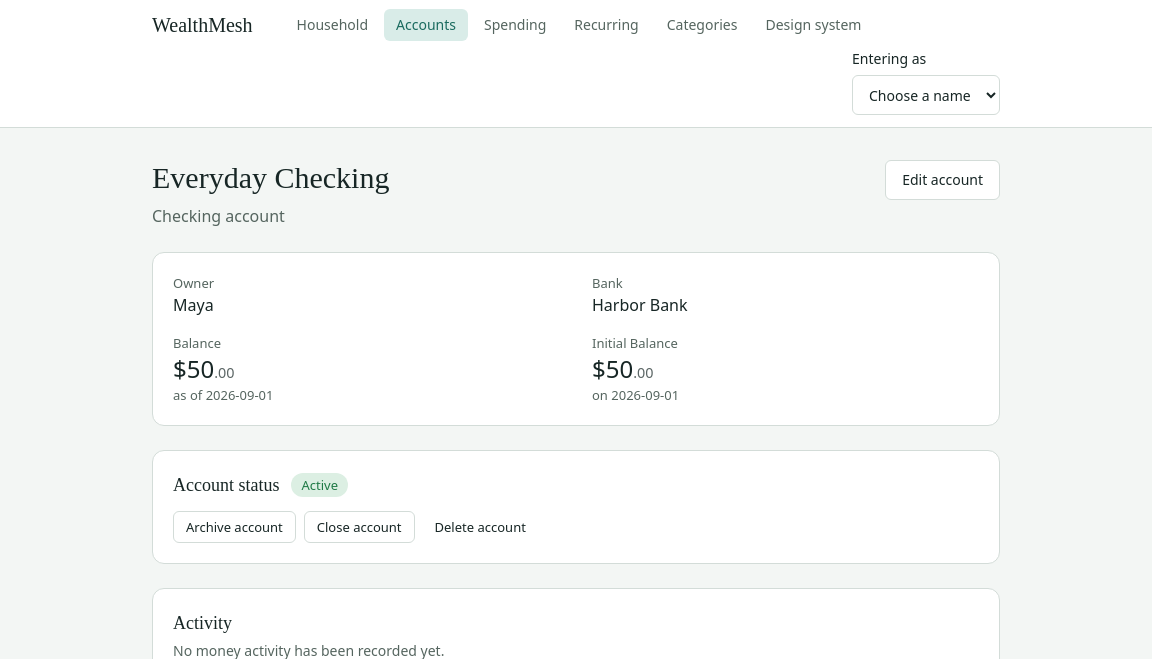
Test: an actual overdraft › does not warn when the Balance stays at or above zero
Select "Sam" in the dropdown labelled "Entering as" at (926, 95), box [852, 75, 1000, 115]
(page scrolled)
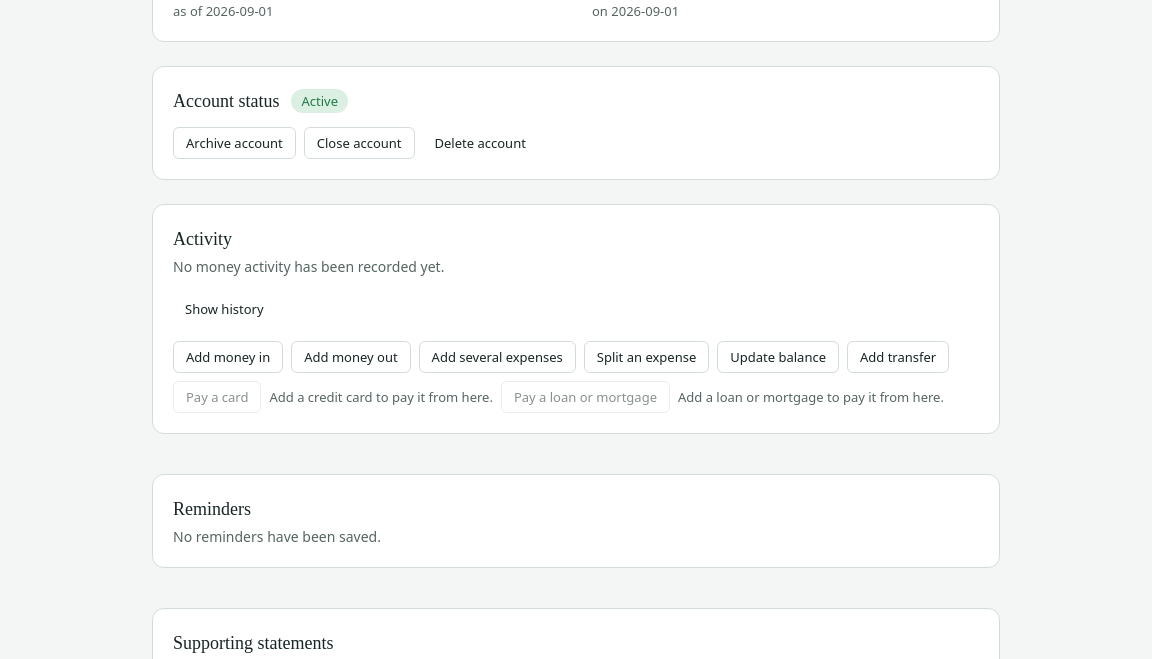
Click the button "Add money out".
click(351, 357)  # box [291, 341, 411, 373]
(page scrolled)
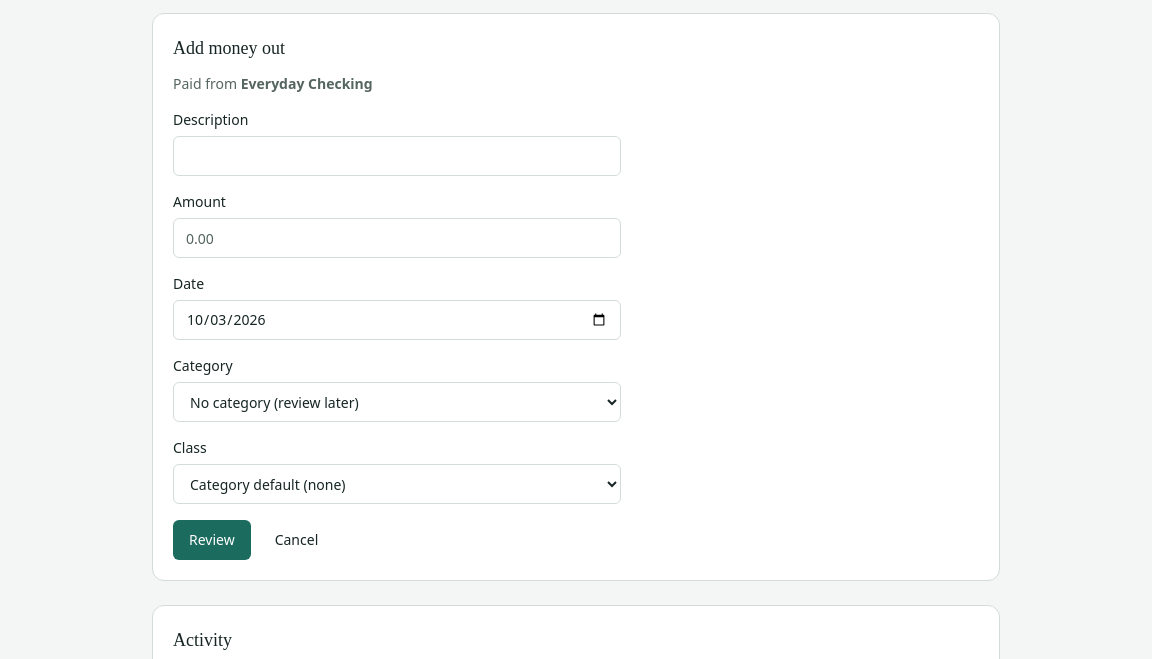
Type "$50.00" into the field labelled "Amount".
click(397, 238); type("$50.00")  # box [173, 218, 621, 258]
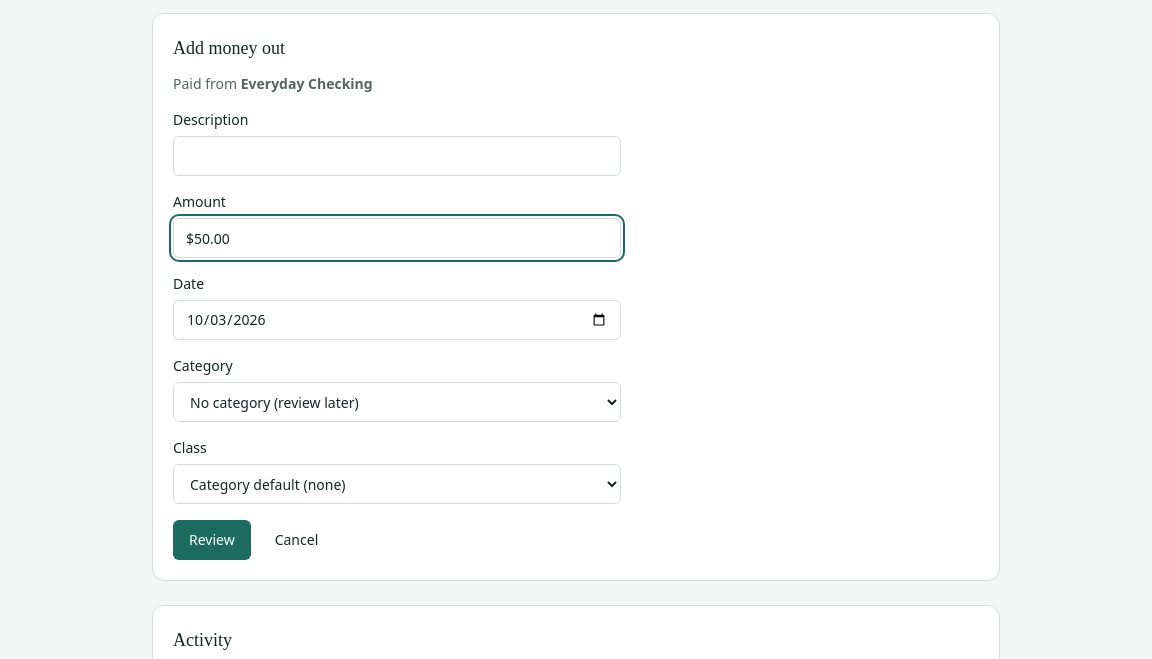
Type "2026-09-05" into the date field labelled "Date".
click(397, 320); type("2026-09-05")  # box [173, 300, 621, 340]
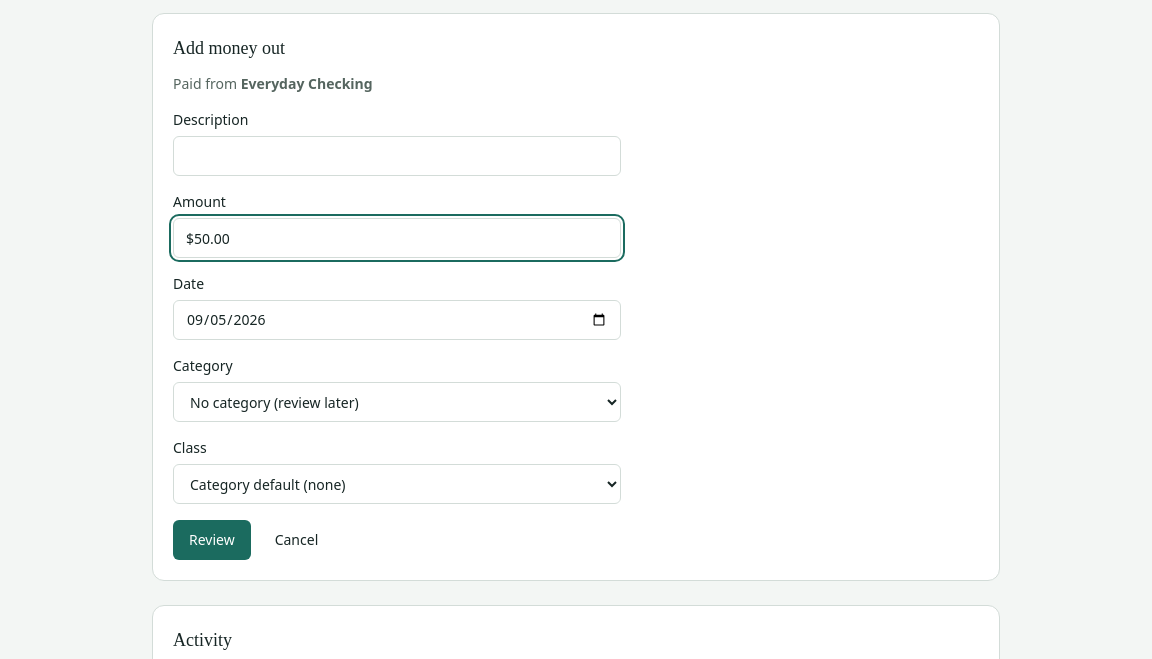
Select "Groceries" in the dropdown labelled "Category" at (397, 402), box [173, 382, 621, 422]
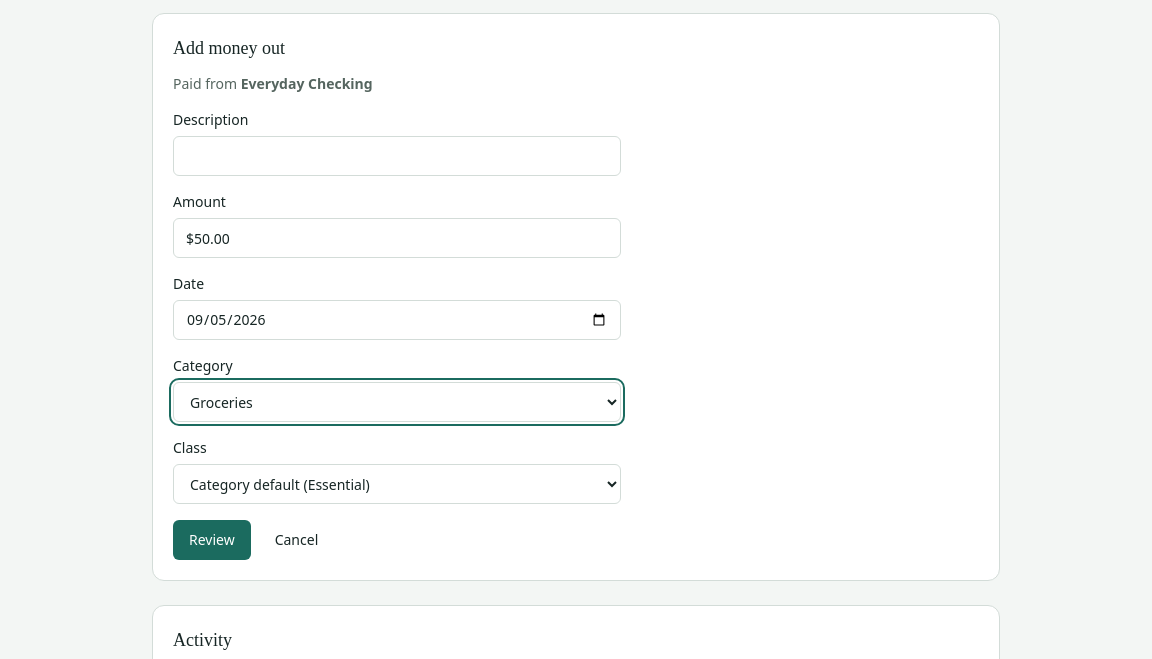
Click the button "Review".
click(212, 540)  # box [173, 520, 251, 560]
(page scrolled)
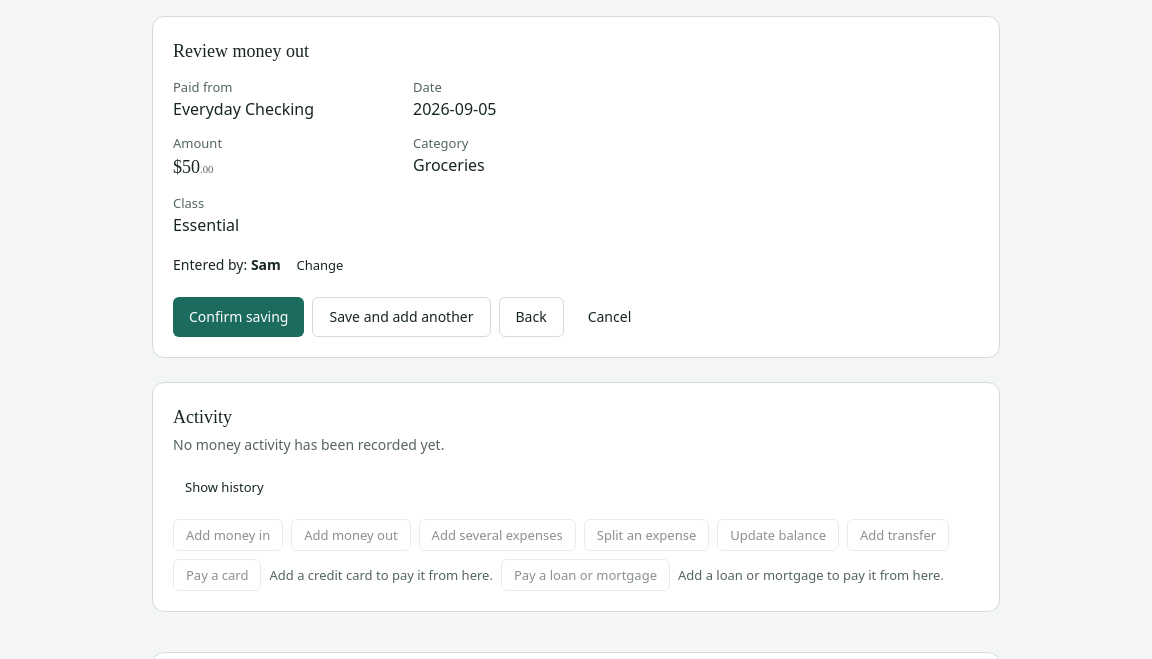
Now the button "Confirm saving" is enabled, box [173, 297, 304, 337]
